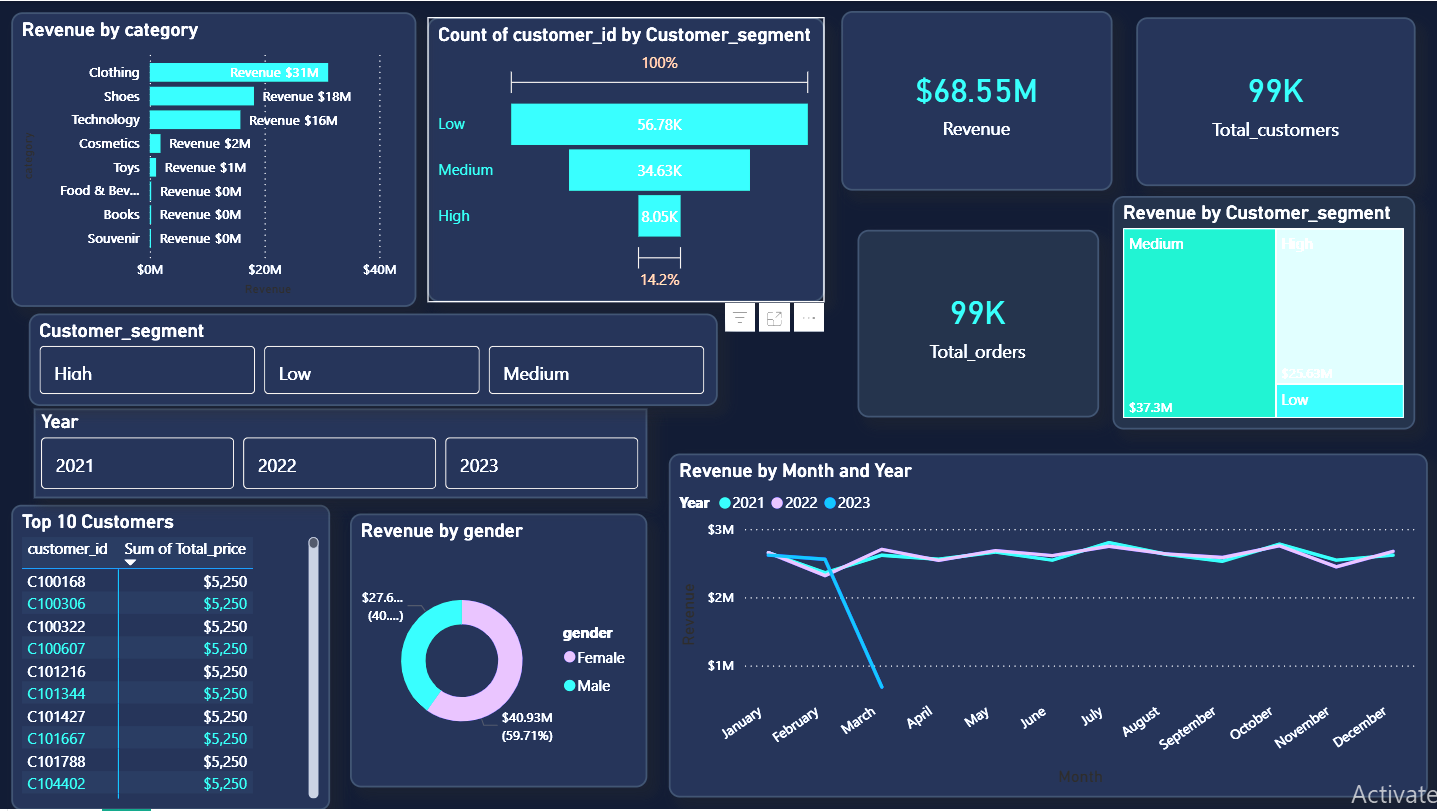

What the dashboard file says about the page in this screenshot:
{"tool":"powerbi","page":{"name":"Page 1","canvas":[1280,720],"ordinal":0},"visuals":[{"type":"card","fields":{"Values":["customer_shopping_data.Revenue"]},"box":[749.2,8.9,241.6,160.3],"z":0},{"type":"card","fields":{"Values":["customer_shopping_data.Total_customers"]},"box":[1011.6,14,248.8,150],"z":1000},{"type":"card","fields":{"Values":["customer_shopping_data.Total_orders"]},"box":[763.6,203.7,214.8,167],"z":2000},{"type":"funnel","fields":{"Category":["customer_shopping_data.Customer_segment"],"Y":["CountNonNull(customer_shopping_data.customer_id)"]},"box":[380.7,14.5,354,253.8],"z":3000},{"type":"treemap","fields":{"Group":["customer_shopping_data.Customer_segment"],"Values":["customer_shopping_data.Revenue"]},"box":[990.7,173.3,269.8,208.1],"z":4000},{"type":"lineChart","fields":{"Category":["customer_shopping_data.invoice_date.Variation.Date Hierarchy.Month"],"Y":["customer_shopping_data.Revenue"],"Series":["customer_shopping_data.invoice_date.Variation.Date Hierarchy.Year"]},"box":[595.6,403,675.7,306.1],"z":5000},{"type":"pivotTable","title":"Top 10 Customers","fields":{"Values":["Sum(customer_shopping_data.Total_amount)"],"Rows":["customer_shopping_data.customer_id"]},"box":[10,448.6,283.9,271.6],"z":6000},{"type":"barChart","fields":{"Category":["customer_shopping_data.category"],"Y":["customer_shopping_data.Revenue"]},"box":[10,10,360.7,262.7],"z":7000},{"type":"donutChart","fields":{"Category":["customer_shopping_data.gender"],"Y":["customer_shopping_data.Revenue"]},"box":[311.7,456.4,264.9,243.8],"z":8000},{"type":"advancedSlicerVisual","fields":{"Values":["customer_shopping_data.invoice_date.Variation.Date Hierarchy.Year"]},"box":[30.1,362.9,546.6,80.1],"z":9000},{"type":"advancedSlicerVisual","fields":{"Values":["customer_shopping_data.Customer_segment"]},"box":[21.2,277.2,613.4,82.4],"z":10000}]}

Visuals, with their boxes in screenshot pixels (x1, y1, x2, y2), scaled from the page's 1280x720 canvas onto the 1440x811 screenshot:
card - customer_shopping_data.Revenue: box=[843, 10, 1115, 191]
card - customer_shopping_data.Total_customers: box=[1138, 16, 1418, 185]
card - customer_shopping_data.Total_orders: box=[859, 229, 1101, 418]
funnel - customer_shopping_data.Customer_segment x CountNonNull(customer_shopping_data.customer_id): box=[428, 16, 827, 302]
treemap - customer_shopping_data.Customer_segment x customer_shopping_data.Revenue: box=[1115, 195, 1418, 430]
lineChart - customer_shopping_data.invoice_date.Variation.Date Hierarchy.Month x customer_shopping_data.Revenue: box=[670, 454, 1430, 799]
"Top 10 Customers" pivotTable: box=[11, 505, 331, 810]
barChart - customer_shopping_data.category x customer_shopping_data.Revenue: box=[11, 11, 417, 307]
donutChart - customer_shopping_data.gender x customer_shopping_data.Revenue: box=[351, 514, 649, 789]
advancedSlicerVisual - customer_shopping_data.invoice_date.Variation.Date Hierarchy.Year: box=[34, 409, 649, 499]
advancedSlicerVisual - customer_shopping_data.Customer_segment: box=[24, 312, 714, 405]
